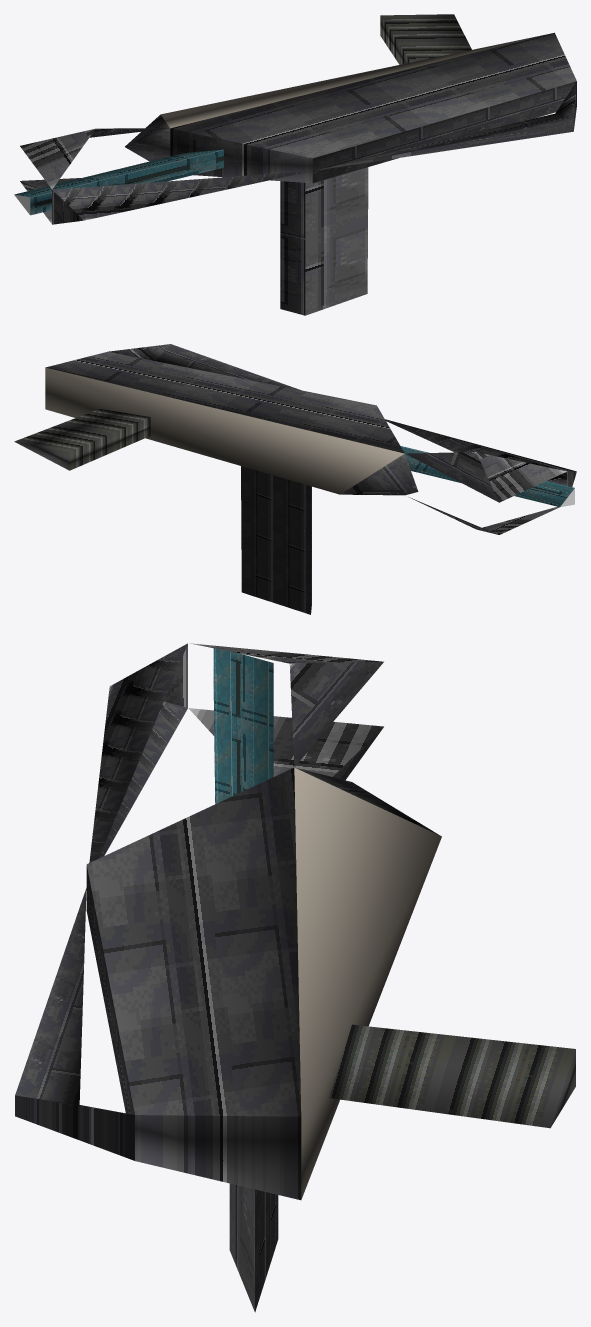
The model's file is 16-devastator-tp.glb.
The picture shows the model from 3 angles, top to bottom: view 1: azimuth 30°, elevation 25°; view 2: azimuth 150°, elevation 25°; view 3: azimuth 270°, elevation 25°; orthographic projection. The views are drawn at different scales.
Parts seen in each view (by area): view 1: gun; view 2: gun; view 3: gun.
Boxes of the visible parts, x1,y1,x2,y2 form: gun: (14, 14, 576, 315); gun: (14, 344, 576, 614); gun: (15, 643, 575, 1312).
Bounding box in the file's own units: 611 × 237 × 292.
10 materials, 10 textured.
